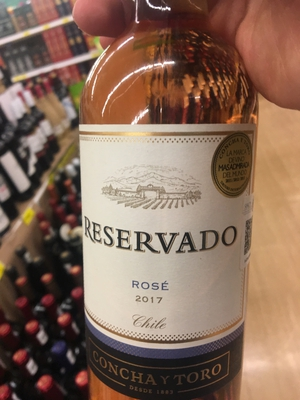reservado rose: (64, 21, 257, 400)
